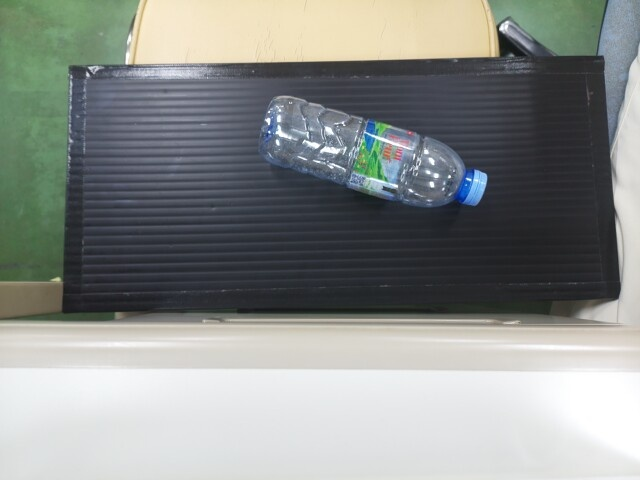plastic_bottle: (254, 92, 485, 207)
